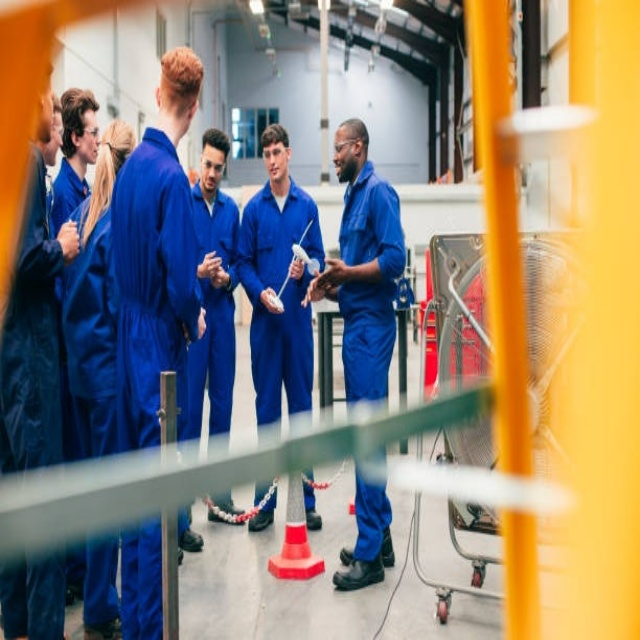Gafas: (332, 139, 360, 154), (201, 157, 225, 174), (263, 147, 286, 159), (52, 119, 66, 138), (82, 127, 100, 138)
Sin_guantes: (57, 219, 81, 260), (304, 272, 332, 305), (198, 253, 224, 285), (260, 285, 285, 314), (322, 254, 347, 282), (288, 256, 305, 282), (195, 305, 207, 340)
Sin_mascara: (333, 158, 346, 182), (86, 144, 99, 163), (203, 173, 216, 191), (268, 165, 282, 180)
